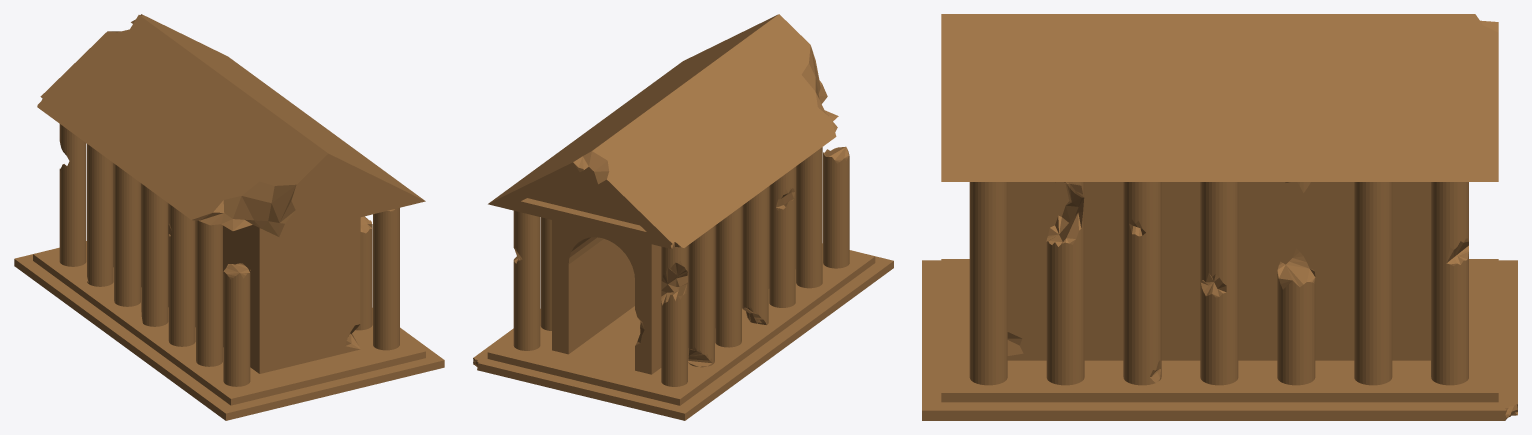
The model's file is Templo Roto.fbx.
3 views of the same model, side by side, from view 1: azimuth 30°, elevation 25°; view 2: azimuth 150°, elevation 25°; view 3: azimuth 270°, elevation 25° (orthographic). The views are drawn at different scales.
Visible parts, largest first — view 1: Centro, Columnas; view 2: Centro, Columnas; view 3: Centro, Columnas.
Boxes of the visible parts, <box> form: Centro: <box>14,14,444,420</box>; Columnas: <box>59,124,399,386</box>; Centro: <box>473,14,893,420</box>; Columnas: <box>513,146,849,386</box>; Centro: <box>922,14,1517,420</box>; Columnas: <box>969,182,1468,385</box>.
Size of the model in its own units: 562 by 578 by 941.
